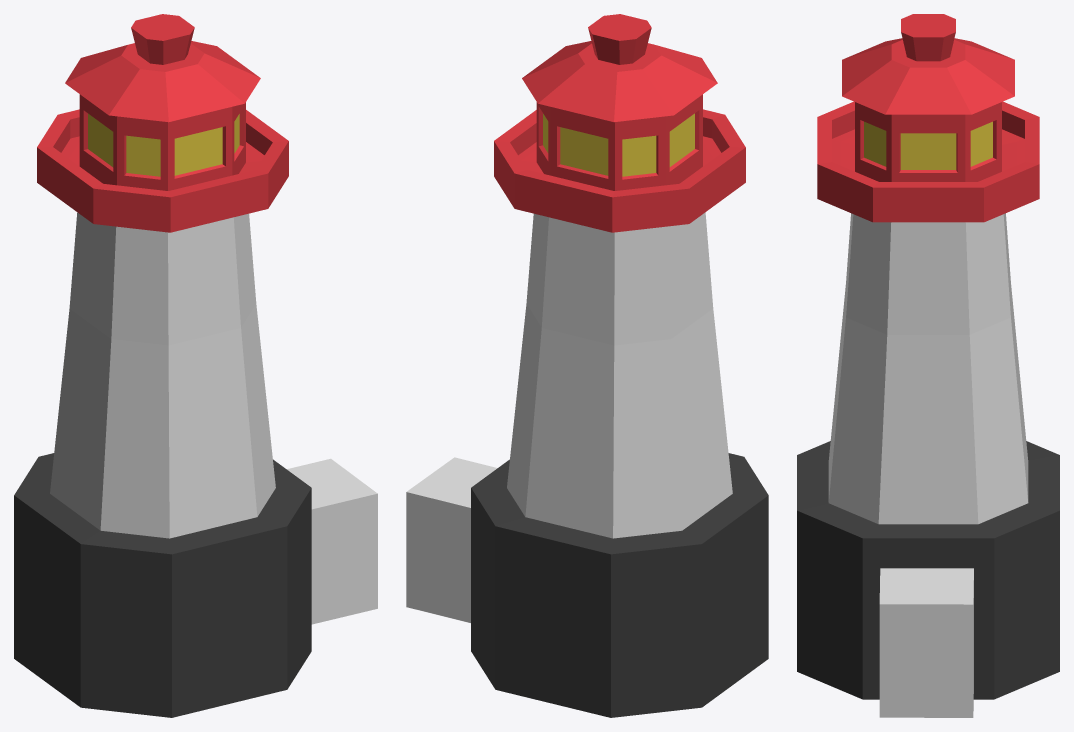
File: Lighhtouse.fbx
3 views of the same model, side by side, from view 1: azimuth 30°, elevation 25°; view 2: azimuth 150°, elevation 25°; view 3: azimuth 270°, elevation 25° (orthographic).
Parts seen in each view (by area): view 1: Cube, Cylinder; view 2: Cube, Cylinder; view 3: Cube, Cylinder.
Boxes of the visible parts, x1,y1,x2,y2 form: Cube: [14, 14, 311, 717]; Cylinder: [287, 458, 377, 624]; Cube: [471, 14, 768, 717]; Cylinder: [406, 457, 497, 622]; Cube: [797, 14, 1059, 699]; Cylinder: [879, 568, 973, 717].
Size of the model in its own units: 184 by 360 by 138.
